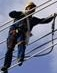boots: (1, 65, 8, 73), (17, 57, 23, 65)
hard-hat: (25, 0, 36, 12)
ppe-suit: (1, 9, 55, 70)
